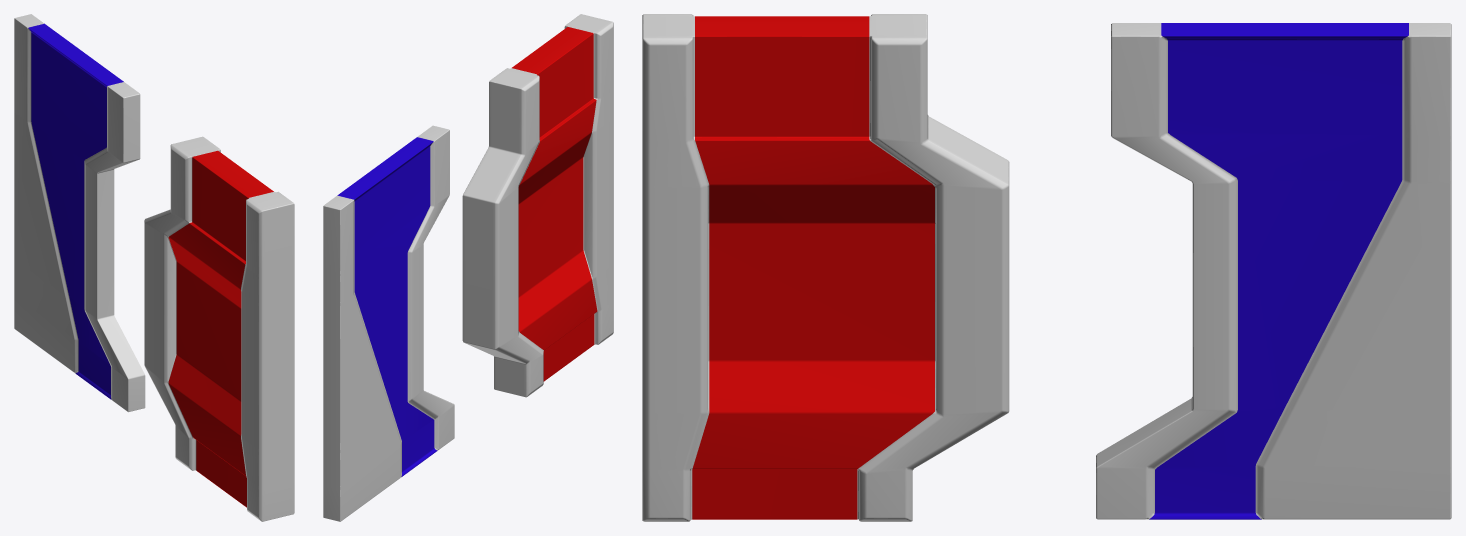
File: doors.FBX
The picture shows the model from 3 angles, left to right: view 1: azimuth 30°, elevation 25°; view 2: azimuth 150°, elevation 25°; view 3: azimuth 270°, elevation 25°; orthographic projection. The views are drawn at different scales.
Visible parts, largest first — view 1: gate_r, gate_l; view 2: gate_r, gate_l; view 3: gate_r, gate_l.
Part boxes in pixels (x1,y1,x2,y2): gate_r: (144, 136, 294, 521); gate_l: (14, 14, 145, 412); gate_r: (462, 14, 613, 397); gate_l: (323, 125, 454, 521); gate_r: (642, 14, 1009, 521); gate_l: (1096, 23, 1451, 519).
Size of the model in its own units: 0.4253 by 3.54 by 5.37.
